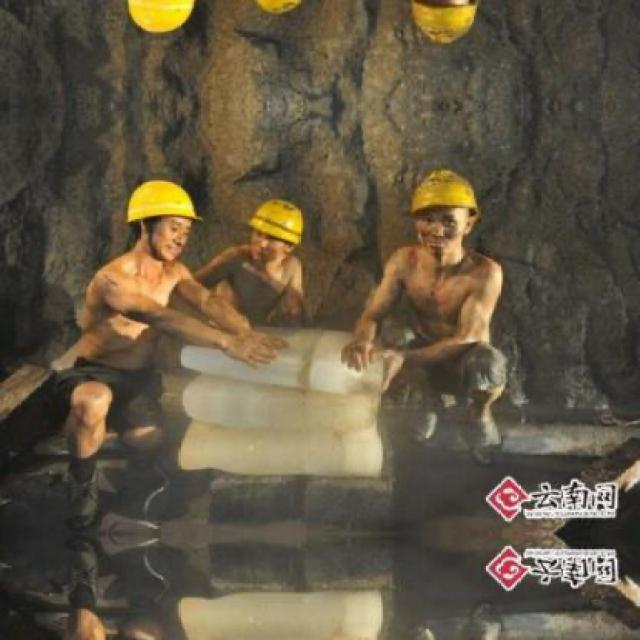helmet: (117, 172, 203, 264), (400, 164, 483, 259), (243, 194, 311, 272), (400, 0, 485, 51), (117, 0, 205, 42), (243, 0, 312, 20)
